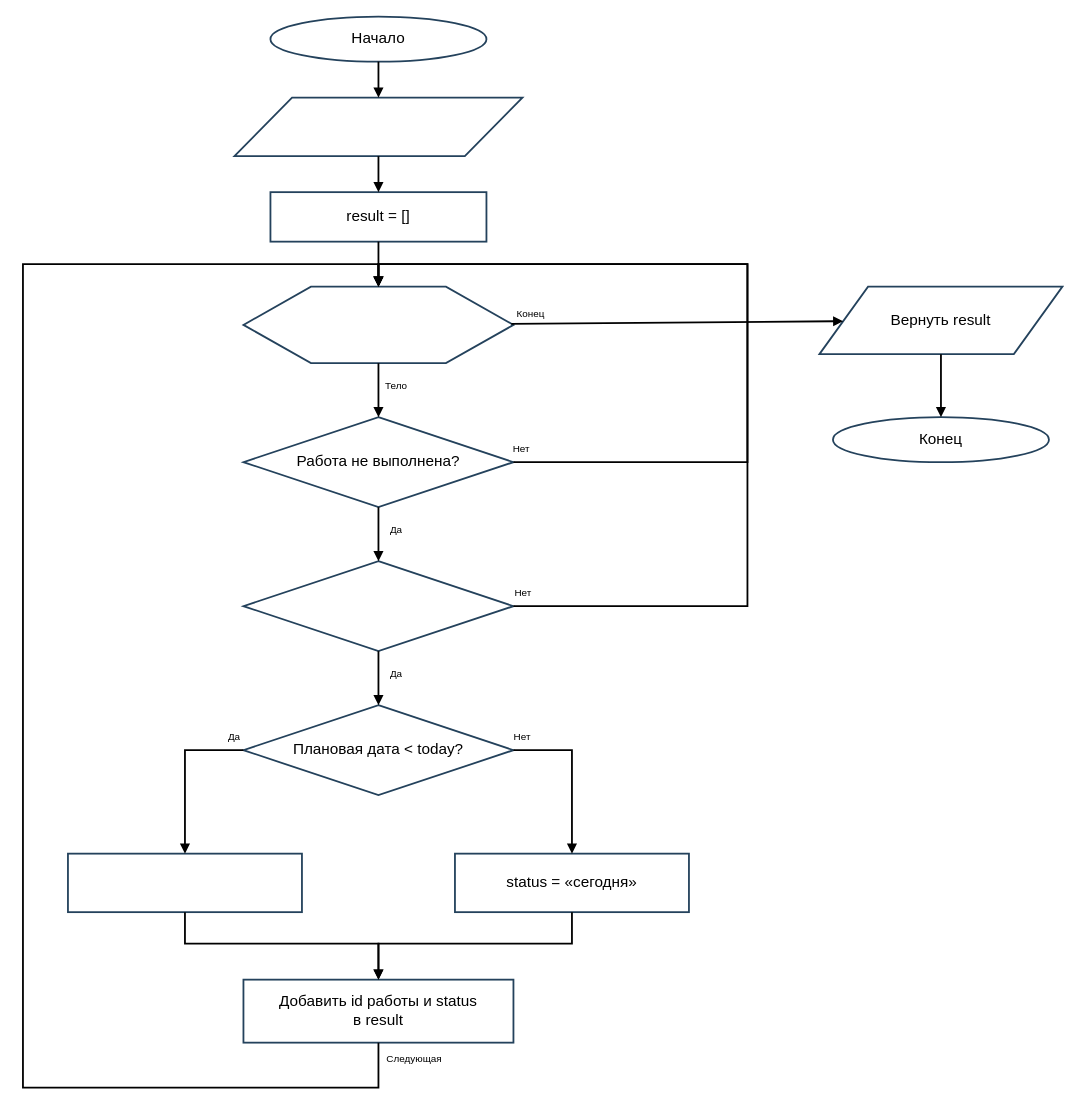
Some shapes in this 1078 by 1111 pixel diagram are drawn without their labels. The centre of each missing label's shape, as x and y in pixels:
status = «просрочено»: (184,882)
Для каждой работы work из operations: (378,324)
Плановая дата ≤ today?: (378,606)
Работы operations; дата today: (378,126)
